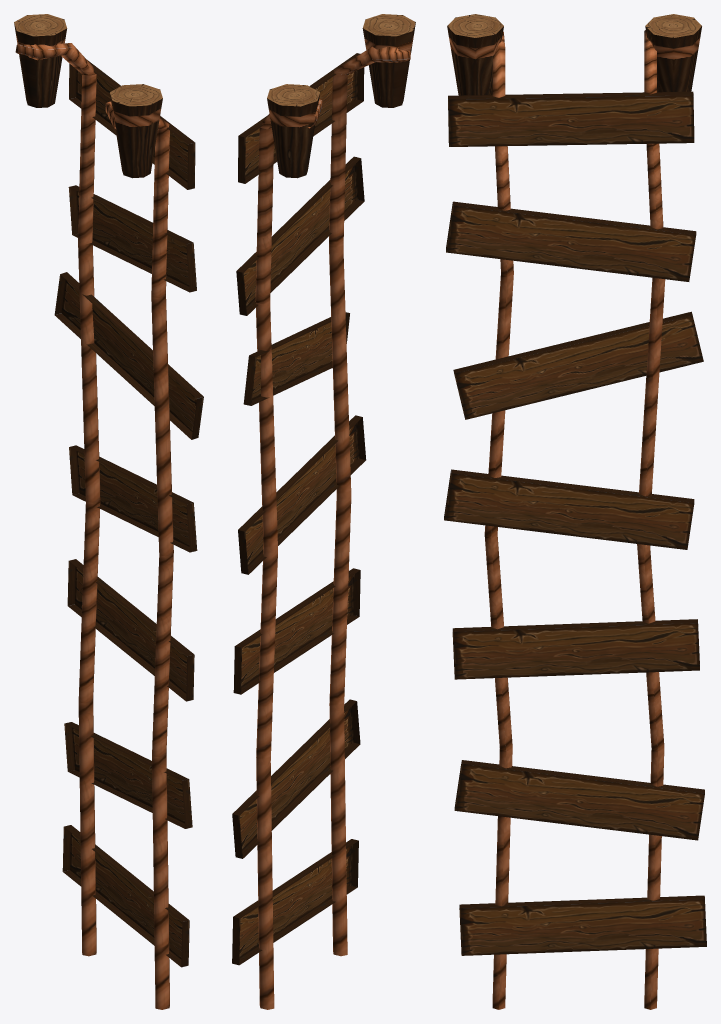
File: ladder.fbx
The picture shows the model from 3 angles, left to right: view 1: azimuth 30°, elevation 25°; view 2: azimuth 150°, elevation 25°; view 3: azimuth 270°, elevation 25°; orthographic projection. The views are drawn at different scales.
Parts seen in each view (by area): view 1: Cylinder_4; view 2: Cylinder_4; view 3: Cylinder_4.
Boxes of the visible parts, x1,y1,x2,y2 form: Cylinder_4: [14, 14, 203, 1009]; Cylinder_4: [232, 14, 415, 1009]; Cylinder_4: [444, 14, 706, 1009].
Bounding box in the file's own units: 221 × 2419 × 599.
1 material, 1 textured.
